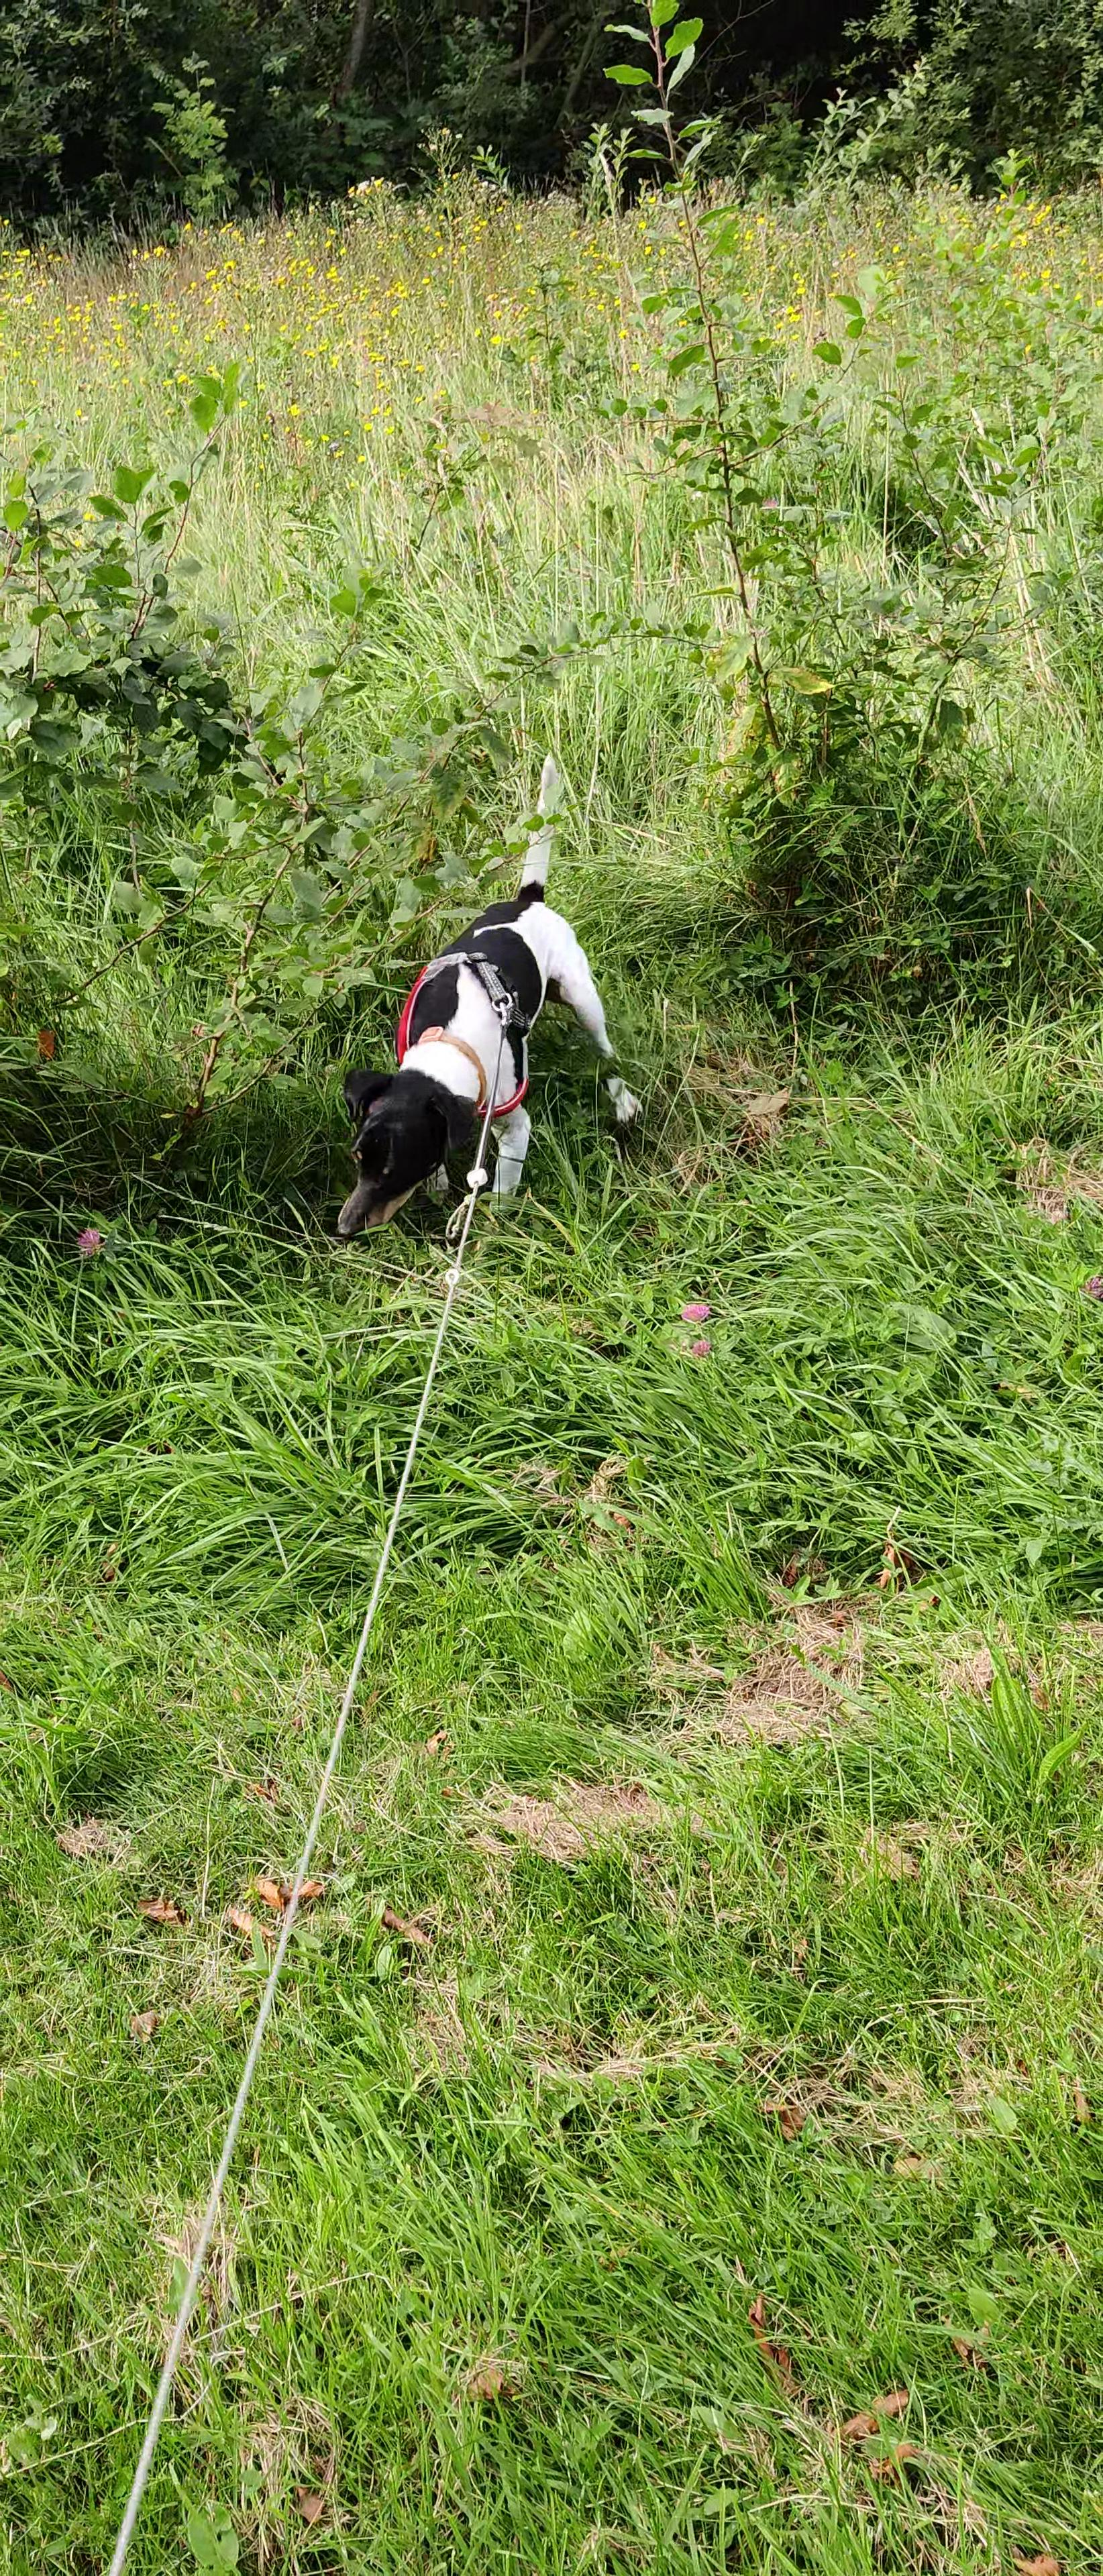Dog: (319, 749, 654, 1249)
